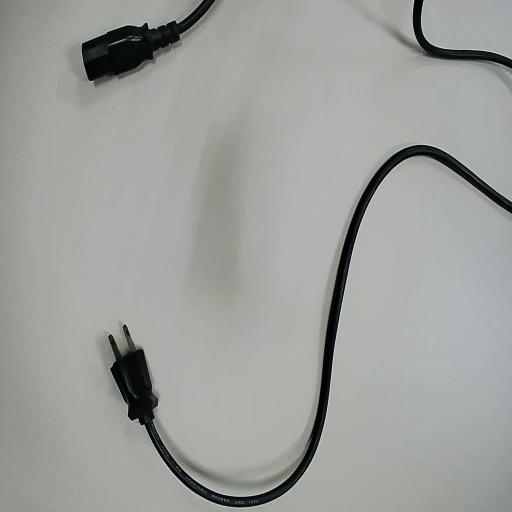wire: (110, 146, 511, 505), (82, 0, 213, 79)
